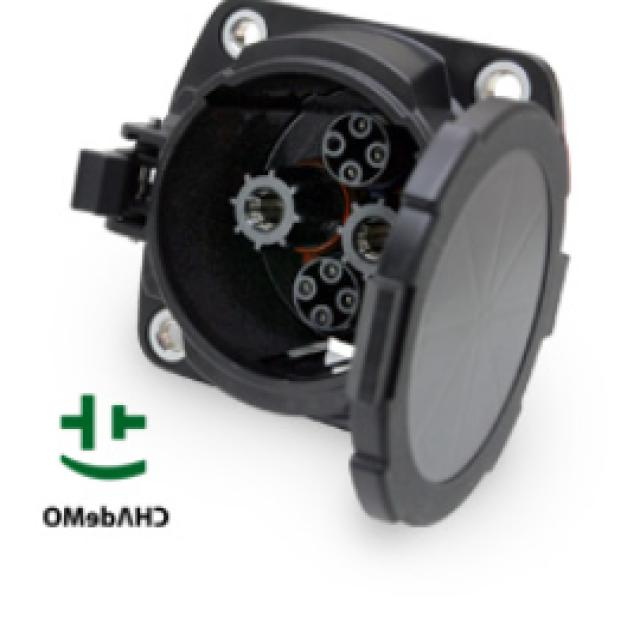CHAdeMO: (154, 39, 466, 370)
